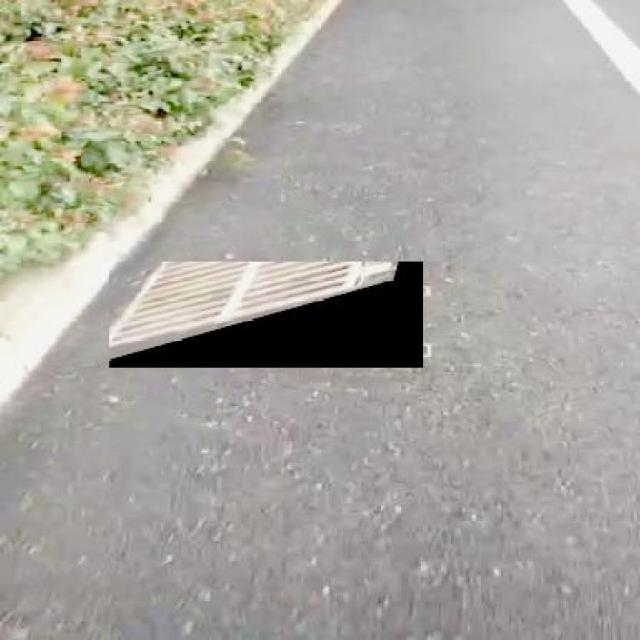Manhole: (110, 262, 424, 368)
